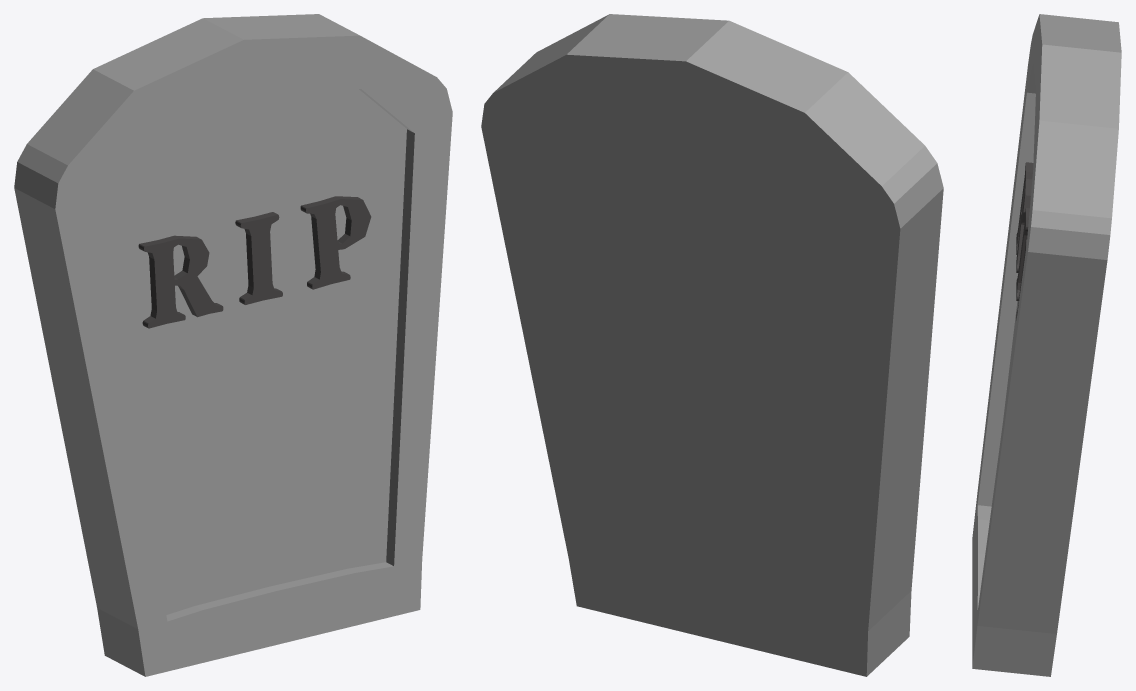
The model's file is Isl_1_Tombstone_1.fbx.
3 views of the same model, side by side, from view 1: azimuth 30°, elevation 25°; view 2: azimuth 150°, elevation 25°; view 3: azimuth 270°, elevation 25° (orthographic). The views are drawn at different scales.
Parts seen in each view (by area): view 1: Isl_1_Tombstone_1; view 2: Isl_1_Tombstone_1; view 3: Isl_1_Tombstone_1.
Part boxes in pixels (box(x1,y1,x2,y2)): Isl_1_Tombstone_1: box(14, 14, 452, 676); Isl_1_Tombstone_1: box(481, 14, 943, 676); Isl_1_Tombstone_1: box(972, 14, 1121, 676).
Size of the model in its own units: 140 by 47.18 by 197.
1 material, 1 textured.
